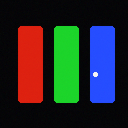0 point: (93, 72, 97, 76)
